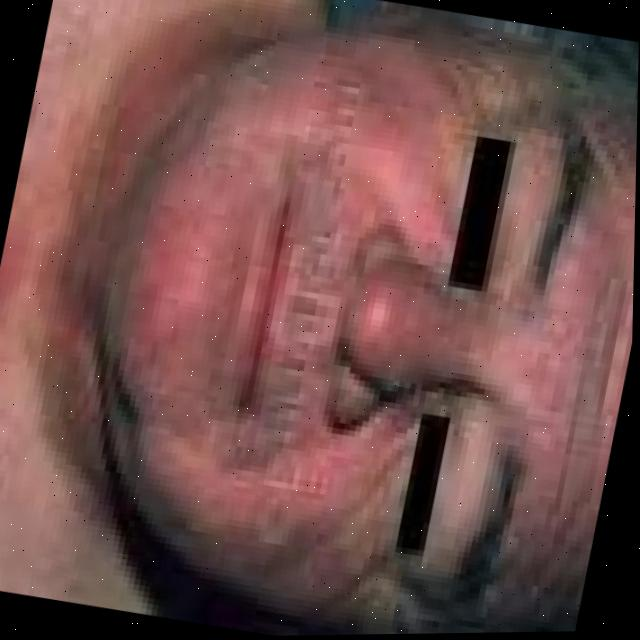Rosacea: (248, 40, 466, 209), (204, 431, 395, 588), (123, 196, 236, 400), (359, 261, 461, 401)
